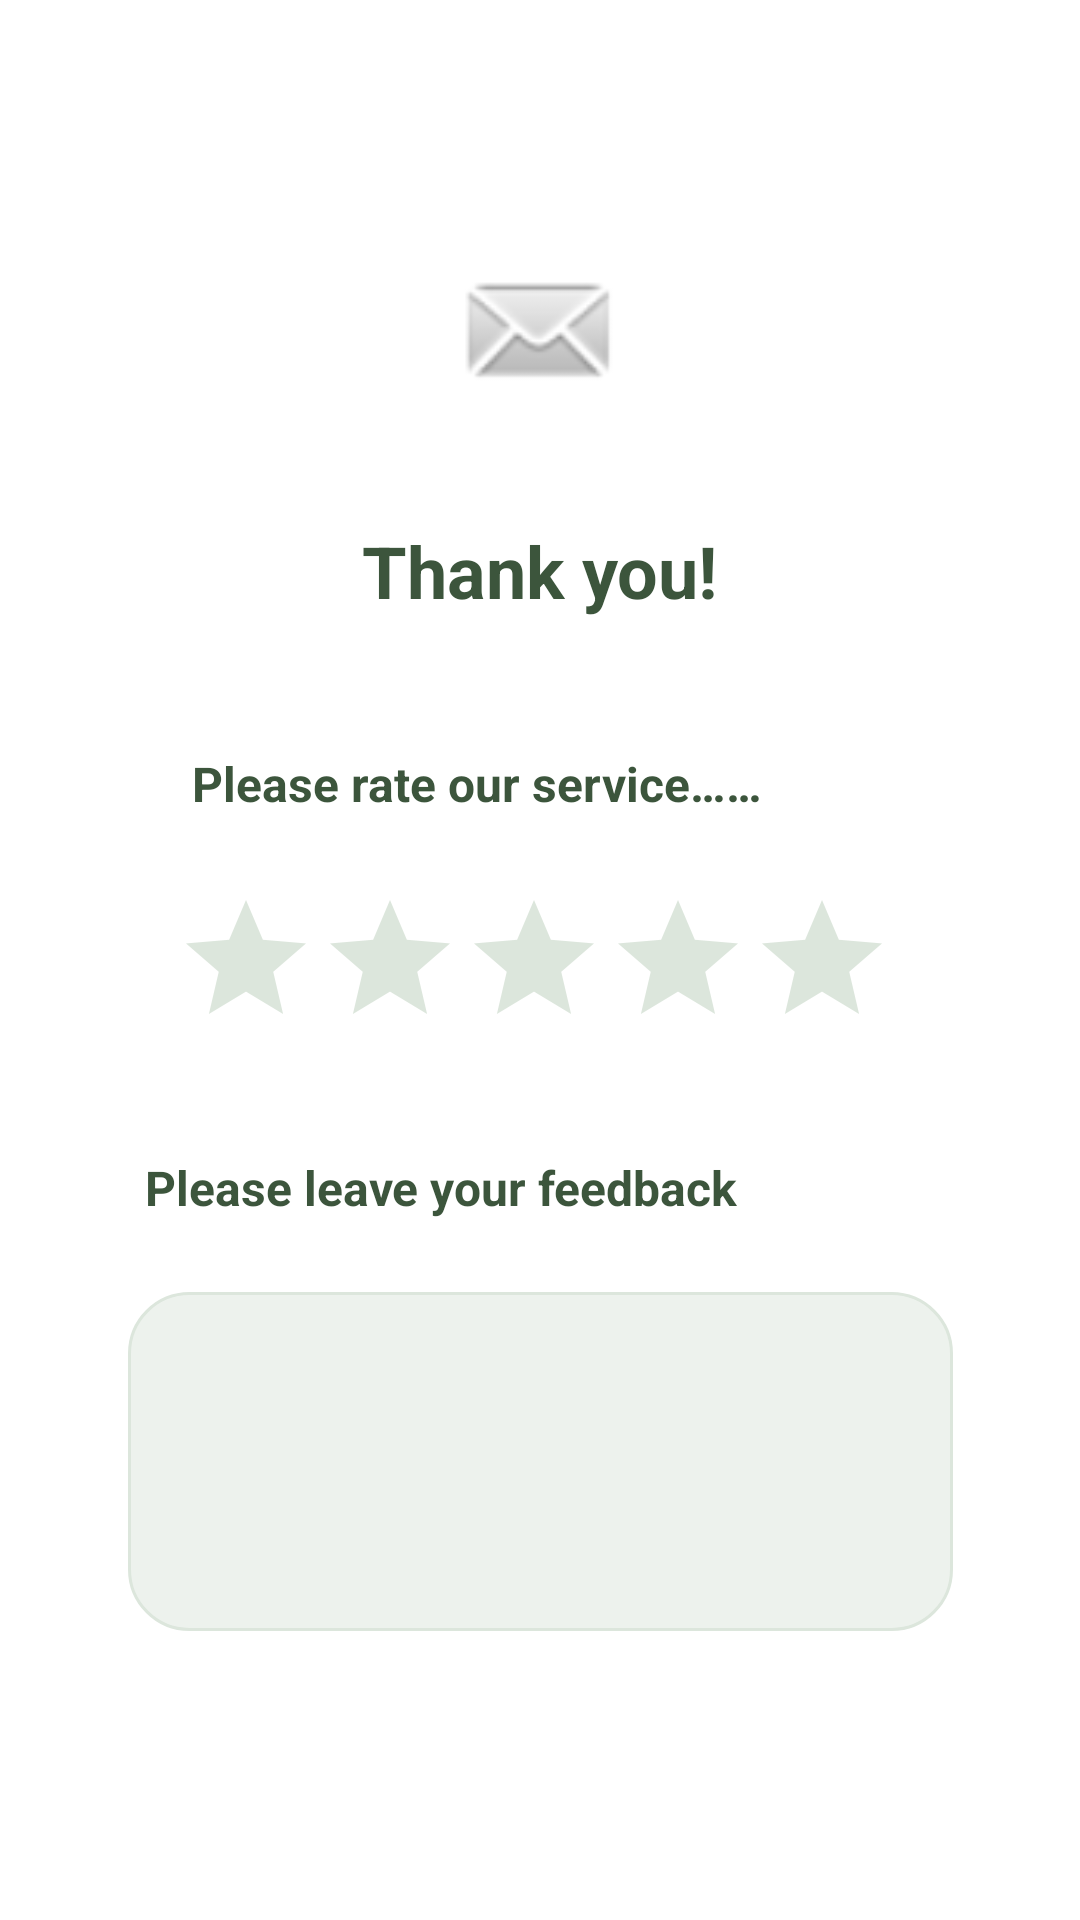

Screen size 1080px x 1920px. Icon name, then its center in pixels as [x,y]:
sym action email: [538,330]
